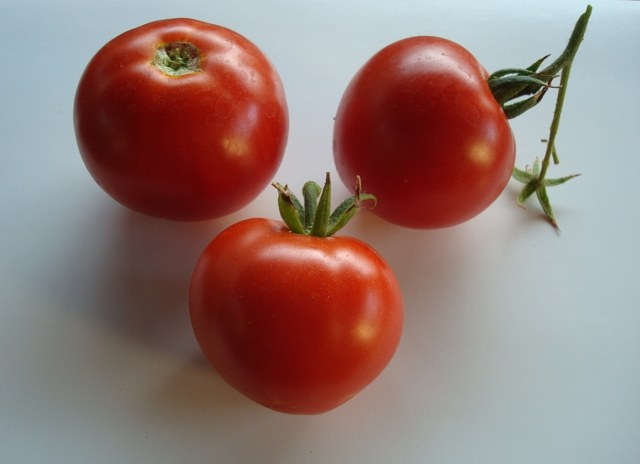tomato: (73, 18, 289, 222), (188, 219, 404, 415), (332, 35, 516, 230)
